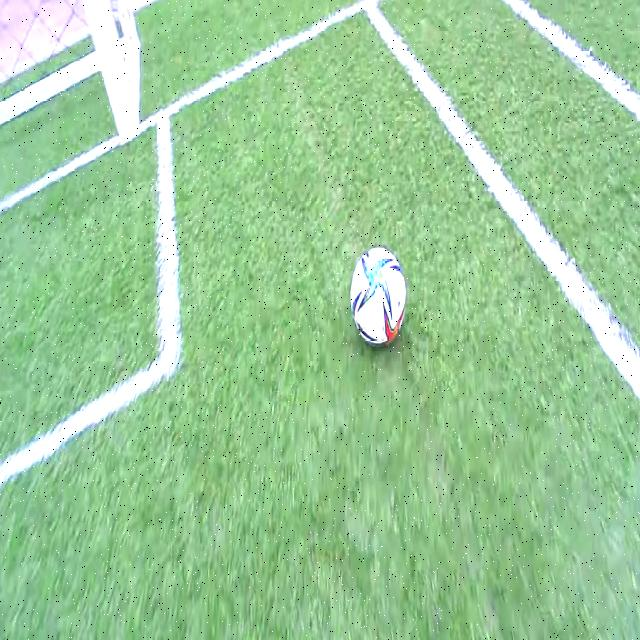ball: (351, 247, 406, 346)
